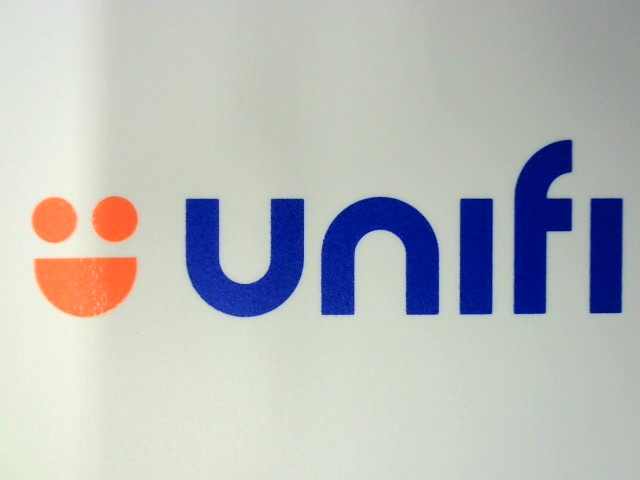BN_unifi: (10, 134, 625, 323)
